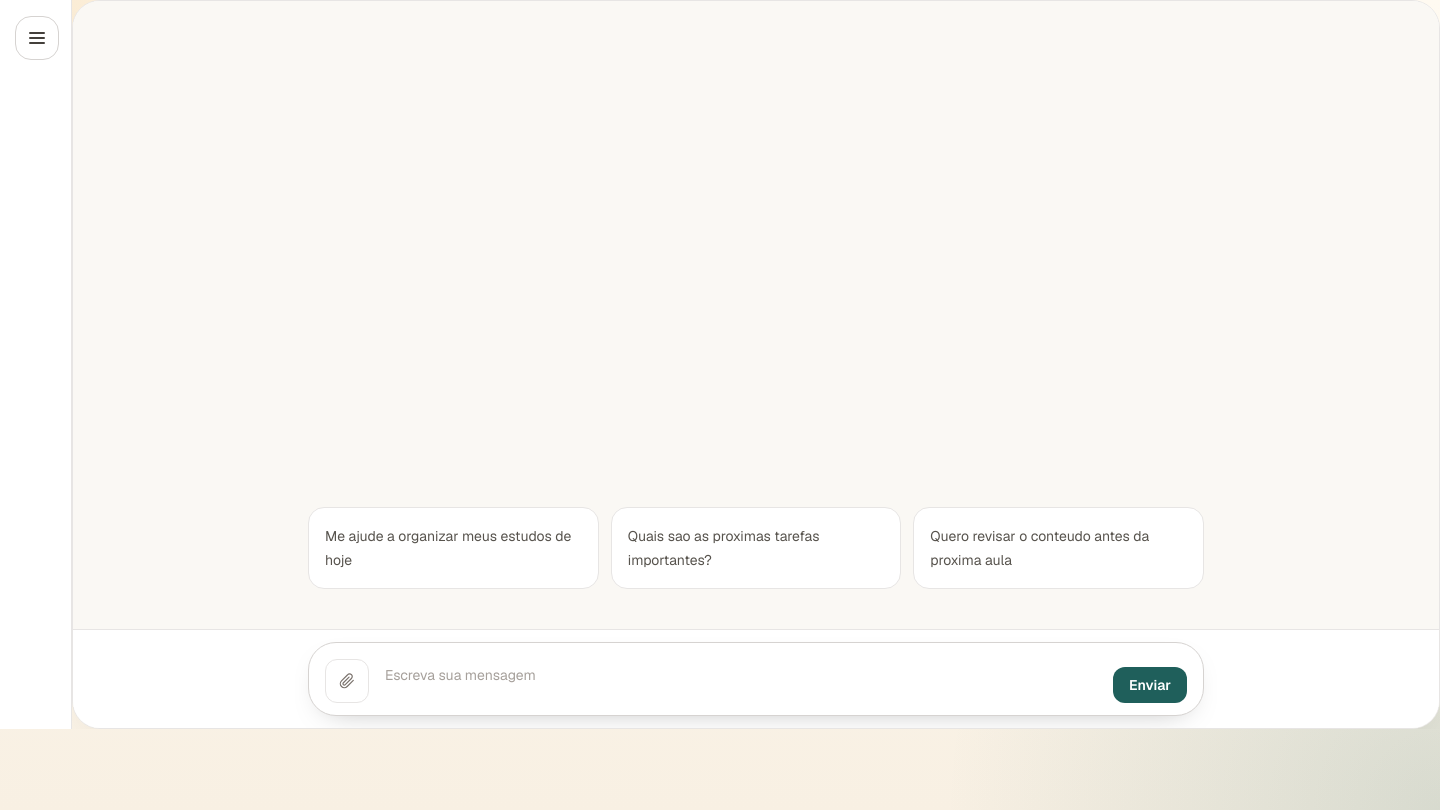
Scenario: StudentWorkspace fallback notice › does not warn when the personal key was not involved
Click the button named "Expandir menu lateral". click: (37, 38)
box: [15,16,59,60]
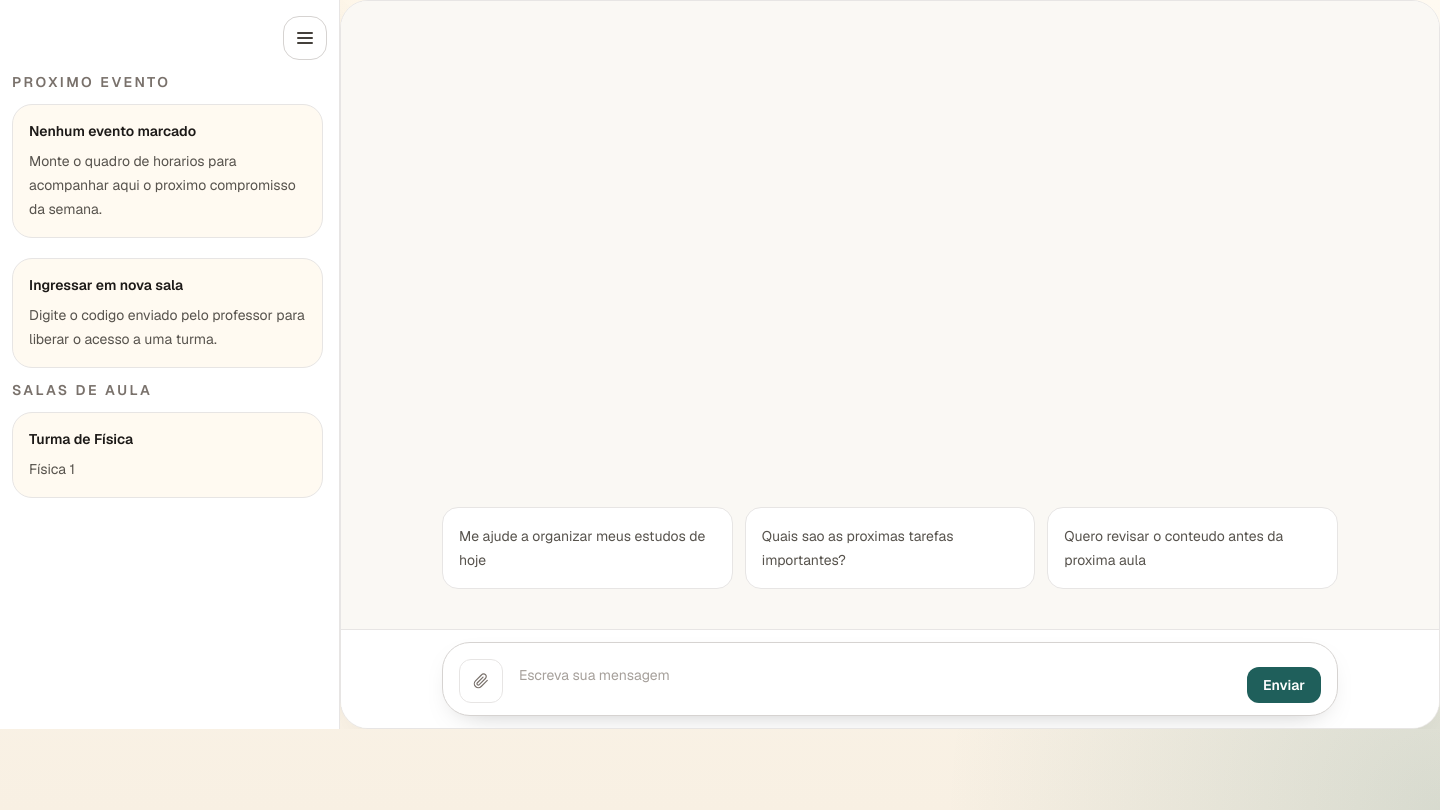
Click the heading "Turma de Física". click: (81, 439)
box: [29,430,133,448]
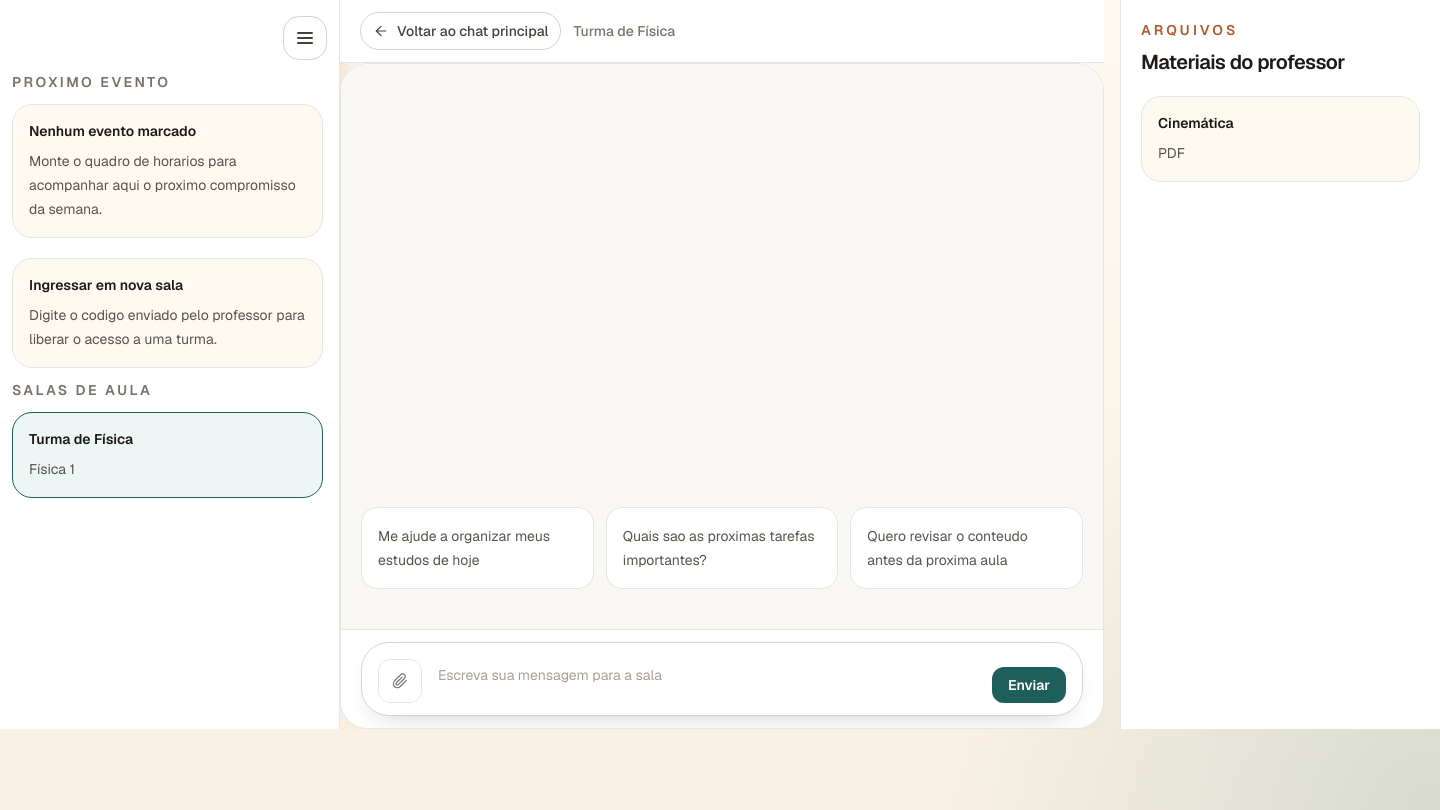
Click the heading "Cinemática". click: (1196, 123)
box: [1158,114,1234,132]
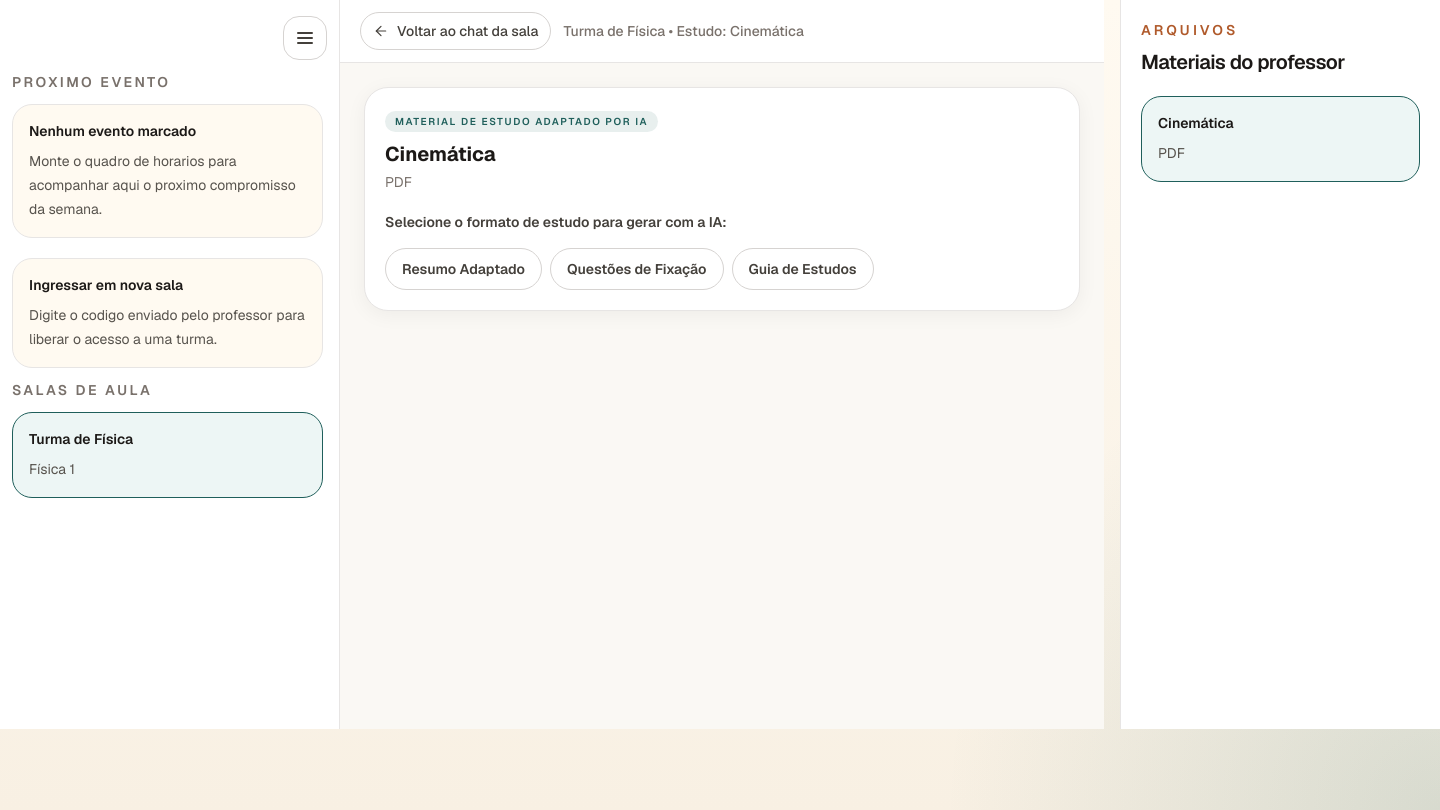
Click the button "Resumo Adaptado". click: (464, 269)
box: [385,248,542,290]
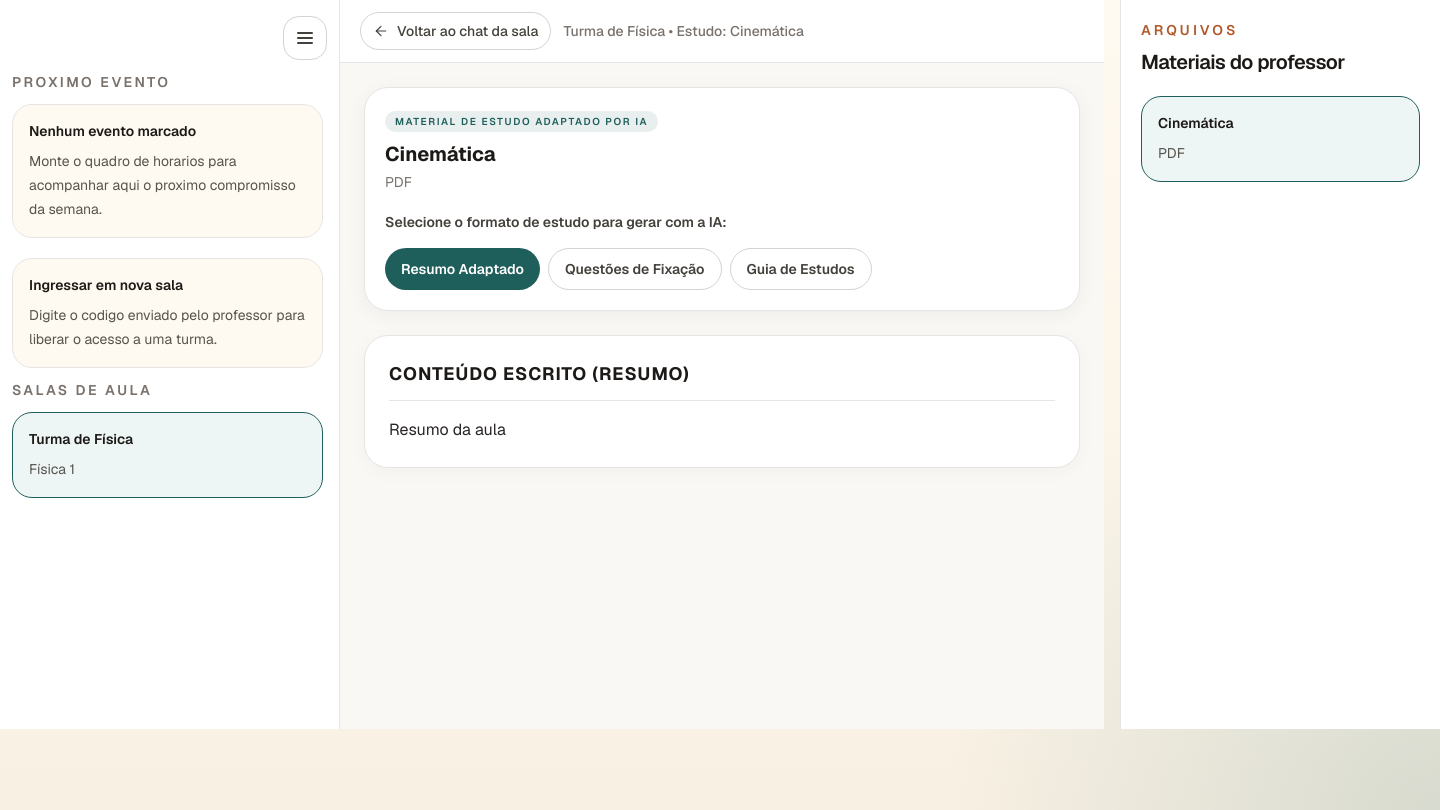
Expected: the text "Resumo da aula" is shown, [389,419,506,440]
